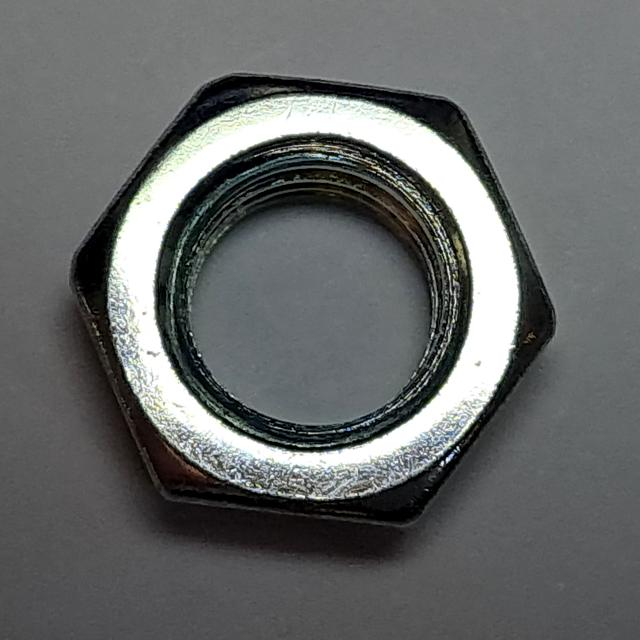Excellent: (49, 62, 570, 547)
